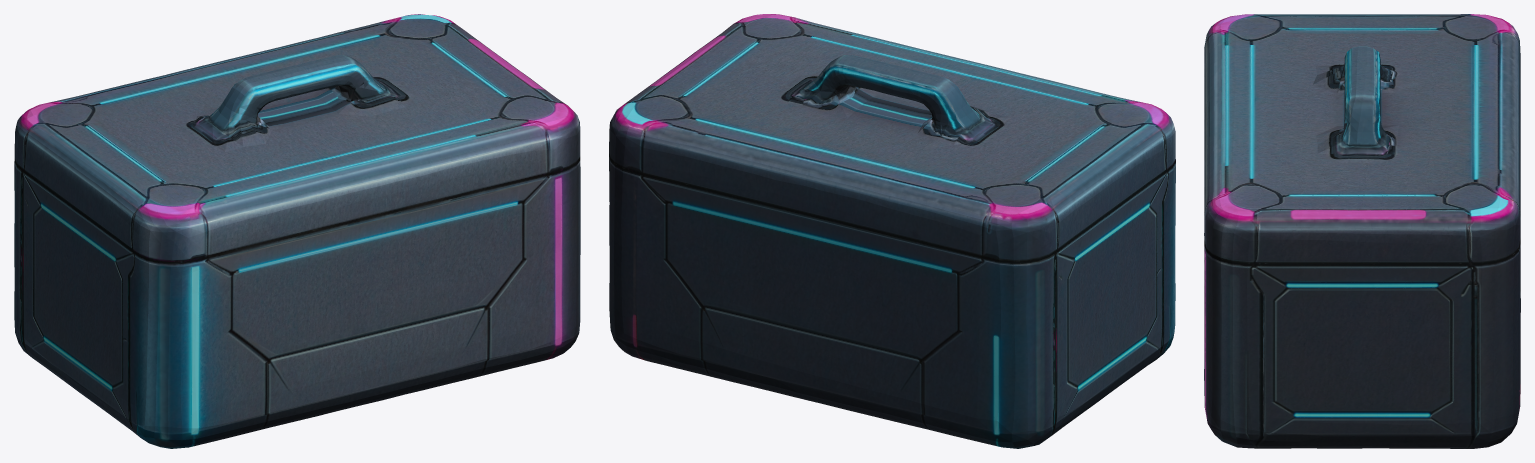
Rendered from Box_Neon.fbx.
3 renders of one model, left to right at view 1: azimuth 30°, elevation 25°; view 2: azimuth 150°, elevation 25°; view 3: azimuth 270°, elevation 25°, orthographic.
Visible parts, largest first — view 1: Box_Original_Low; view 2: Box_Original_Low; view 3: Box_Original_Low.
Boxes of the visible parts, bbox=[...] form: Box_Original_Low: bbox=[14, 14, 580, 448]; Box_Original_Low: bbox=[609, 14, 1175, 448]; Box_Original_Low: bbox=[1204, 14, 1520, 448].
Bounding box in the file's own units: 0.5 × 0.3121 × 0.3149.
Materials: 1 (1 with a texture image).
